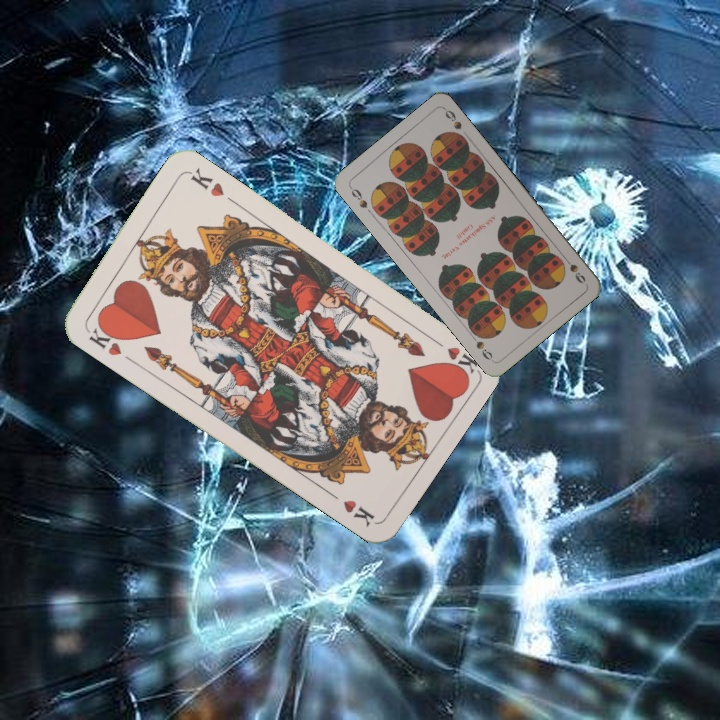HK: (426, 332, 481, 376), (82, 318, 126, 359)
S9: (556, 251, 588, 286), (345, 182, 370, 211)
